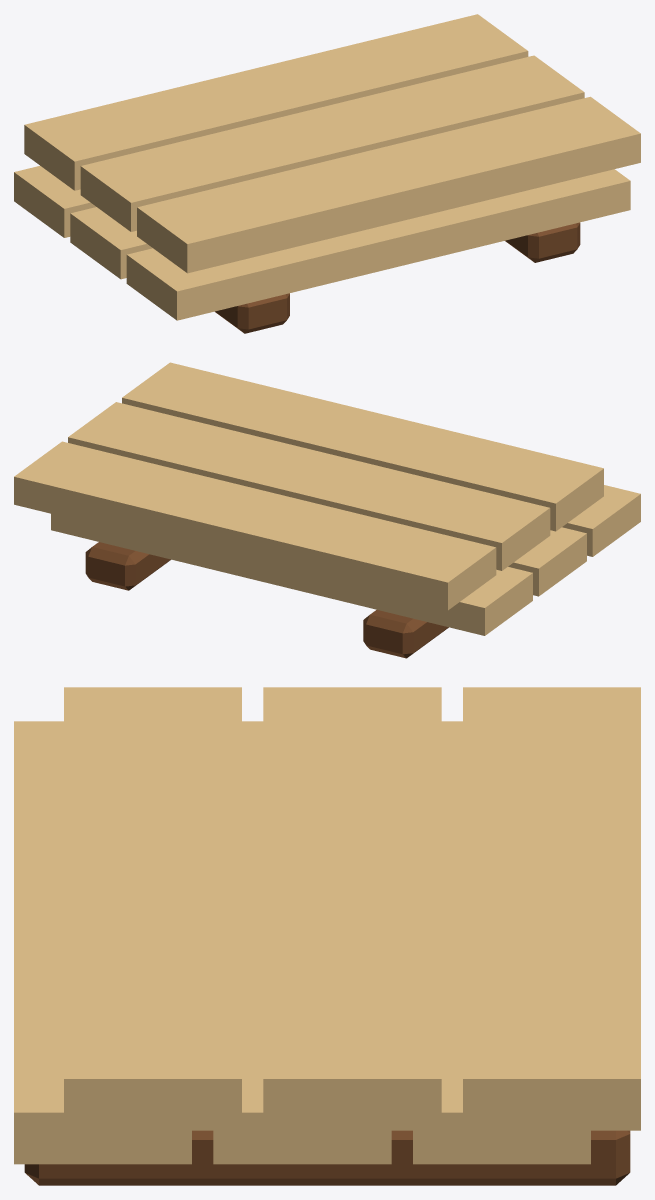
File: prop_planks_s.fbx
The picture shows the model from 3 angles, top to bottom: view 1: azimuth 30°, elevation 25°; view 2: azimuth 150°, elevation 25°; view 3: azimuth 270°, elevation 25°; orthographic projection. The views are drawn at different scales.
Parts seen in each view (by area): view 1: prop_planks_s; view 2: prop_planks_s; view 3: prop_planks_s.
Boxes of the visible parts, x1,y1,x2,y2 form: prop_planks_s: [14, 14, 640, 333]; prop_planks_s: [14, 362, 640, 658]; prop_planks_s: [14, 687, 640, 1185].
Size of the model in its own units: 0.3288 by 0.0636 by 0.2112.
